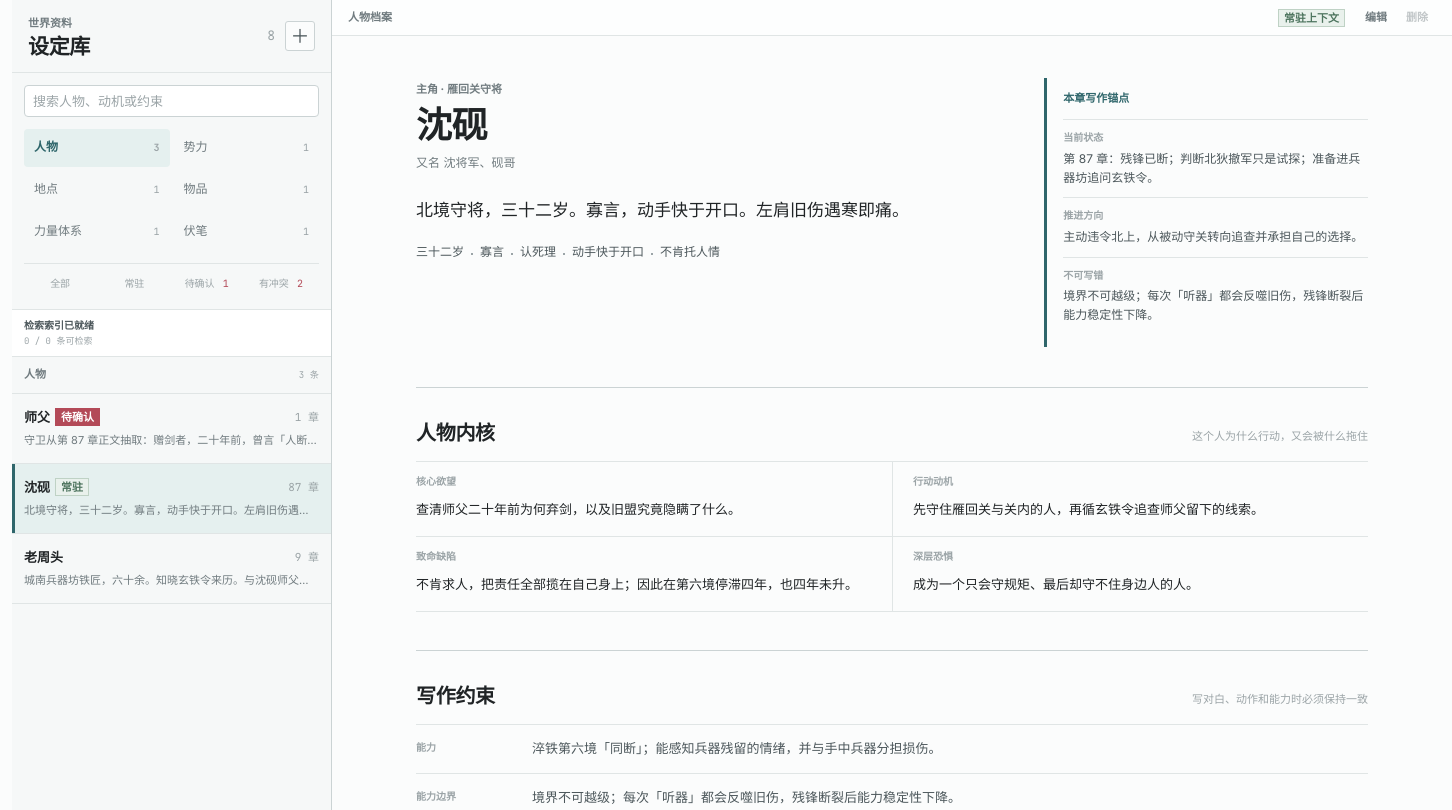
chapter-aware Codex state history › does not let a slow state request overwrite the newly selected entry
Click the option "老周头 9 章 城南兵器坊铁匠，六十余。知晓玄铁令来历。与沈砚师父有旧。" at (44, 557), box [12,534,331,604]
(page scrolled)
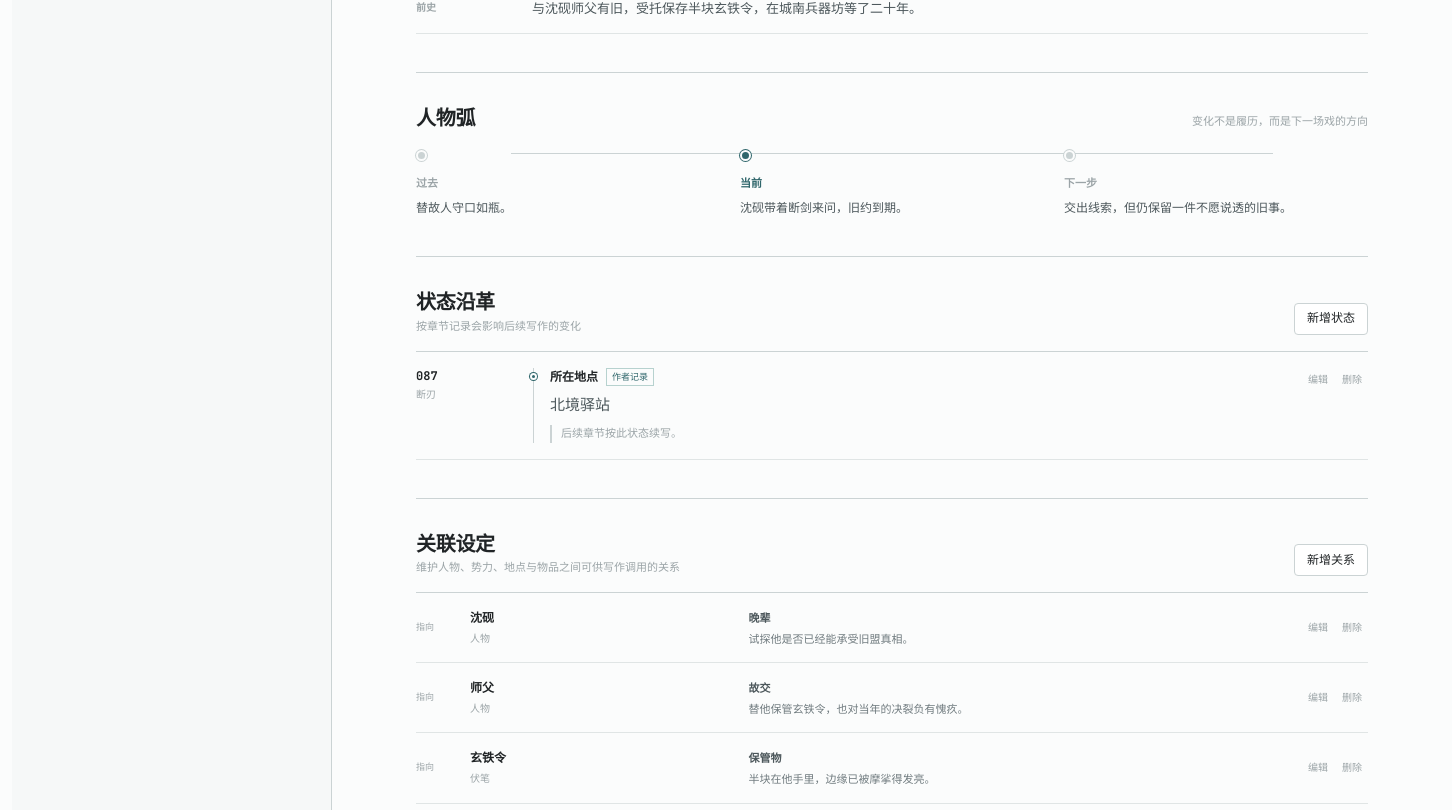
Expected: the element with class "codex-state-timeline" shows "北境驿站", [550,397,610,413]
